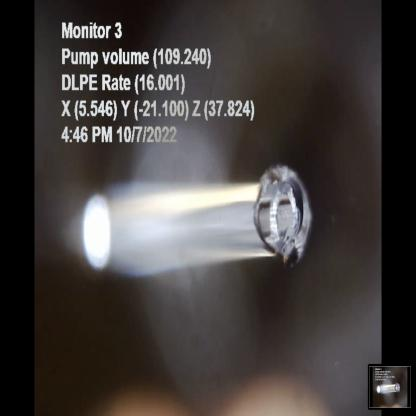Droplet: (254, 166, 315, 273)
